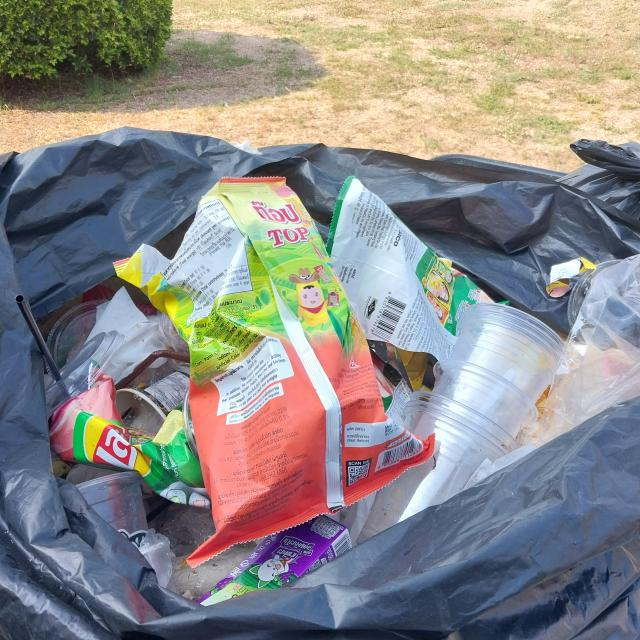Single-layer Plastic: (0, 128, 640, 640), (536, 255, 640, 445)
